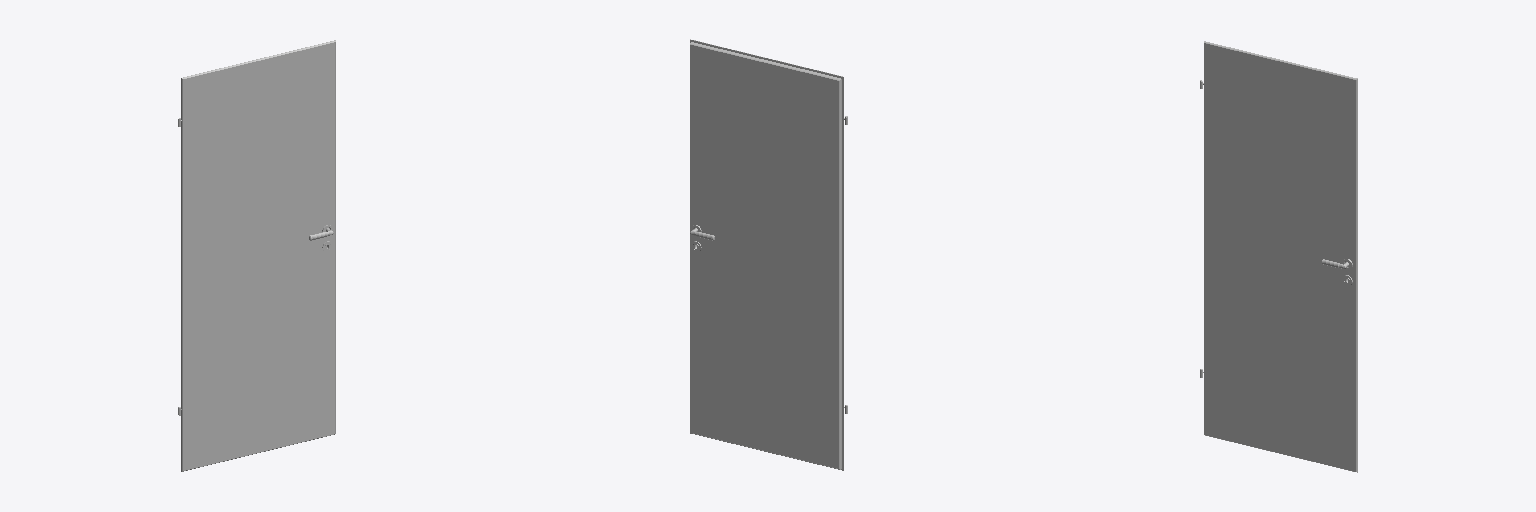
File: door2.obj
3 renders of one model, left to right at view 1: azimuth 30°, elevation 25°; view 2: azimuth 150°, elevation 25°; view 3: azimuth 330°, elevation 25°, orthographic.
Visible parts, largest first — view 1: Plane.001; view 2: Plane.001; view 3: Plane.001.
Boxes of the visible parts, box(x1,y1,x2,y2) form: Plane.001: box(178, 40, 335, 471); Plane.001: box(690, 39, 847, 470); Plane.001: box(1200, 41, 1357, 472).
Bounding box in the file's own units: 1.16 × 2.76 × 0.17.